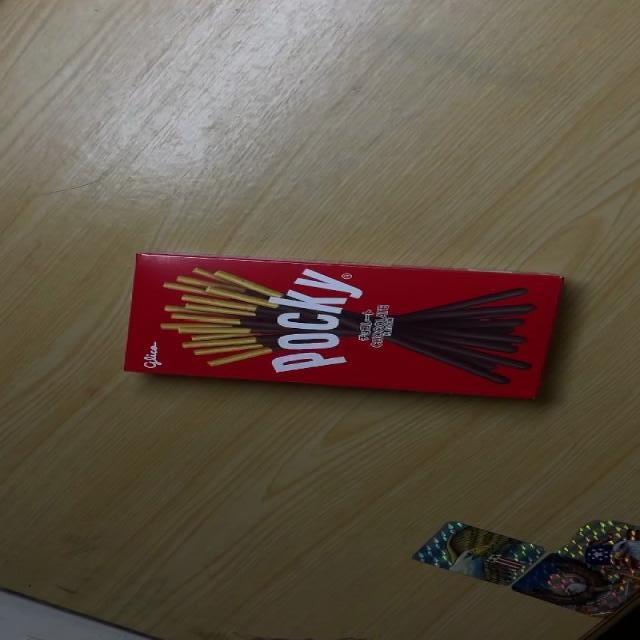Pocky: (121, 252, 564, 402)
